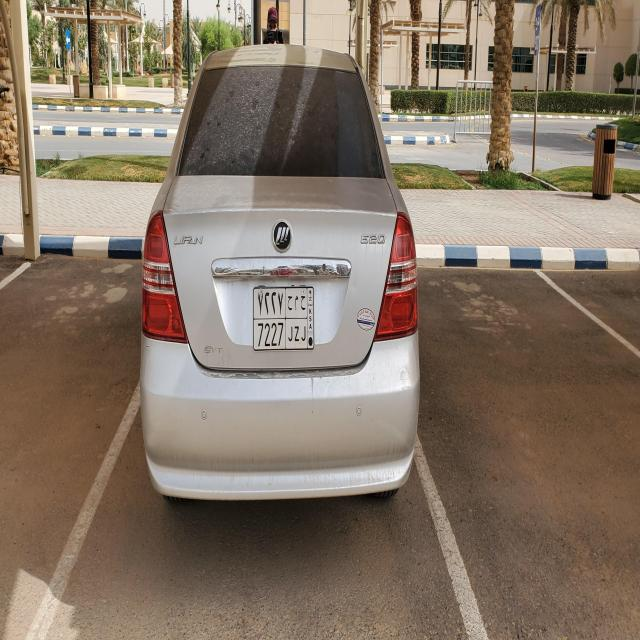license_plate: (252, 286, 315, 354)
